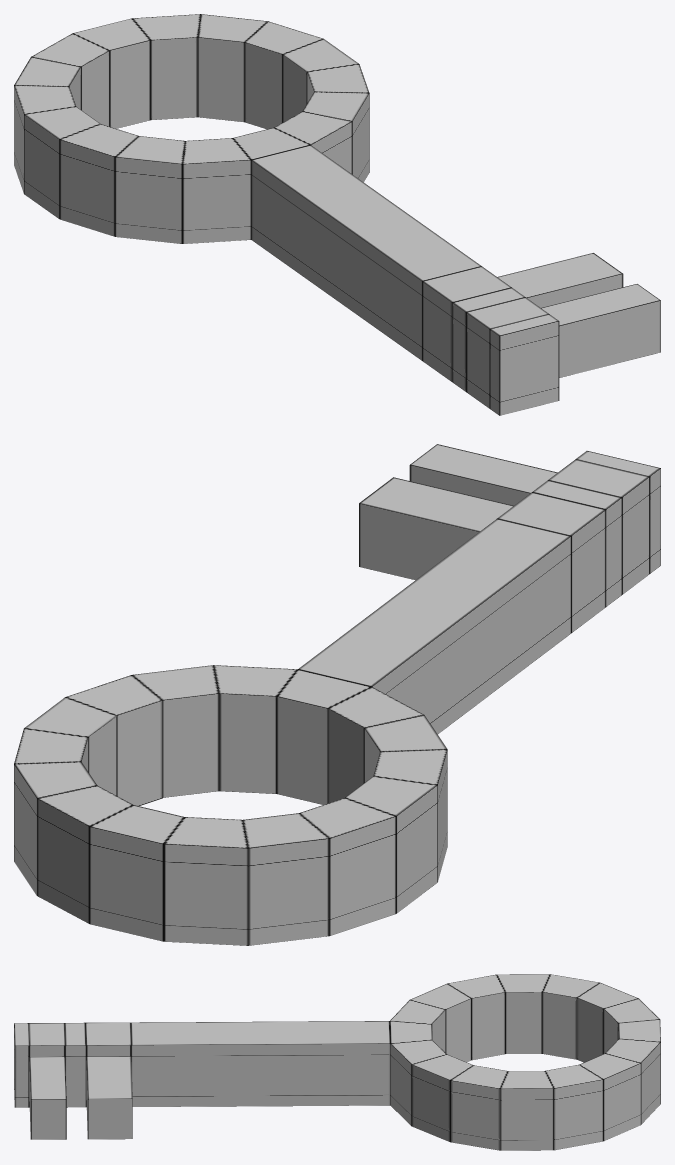
The model's file is key.fbx.
3 views of the same model, one above another, from view 1: azimuth 30°, elevation 25°; view 2: azimuth 150°, elevation 25°; view 3: azimuth 270°, elevation 25° (orthographic). The views are drawn at different scales.
Parts seen in each view (by area): view 1: Cylinder; view 2: Cylinder; view 3: Cylinder.
Boxes of the visible parts, bbox=[...] form: Cylinder: bbox=[14, 14, 660, 415]; Cylinder: bbox=[14, 444, 660, 945]; Cylinder: bbox=[14, 974, 660, 1150].
Size of the model in its own units: 92.78 by 23.42 by 221.
